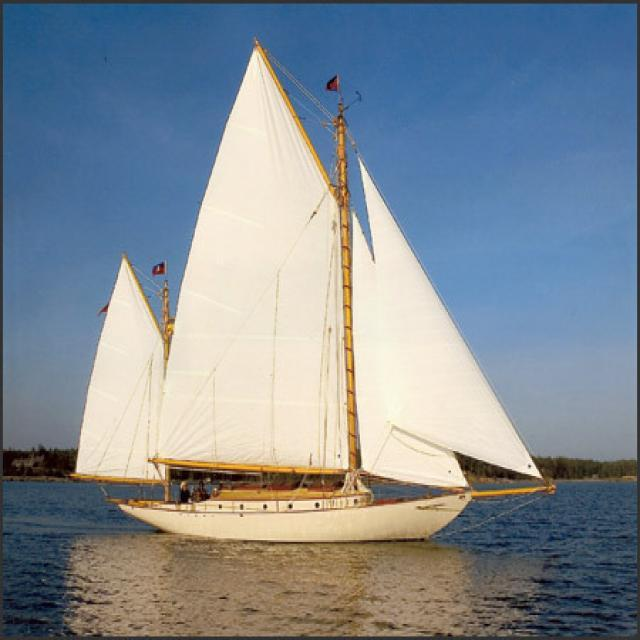Ship: (77, 37, 555, 548)
